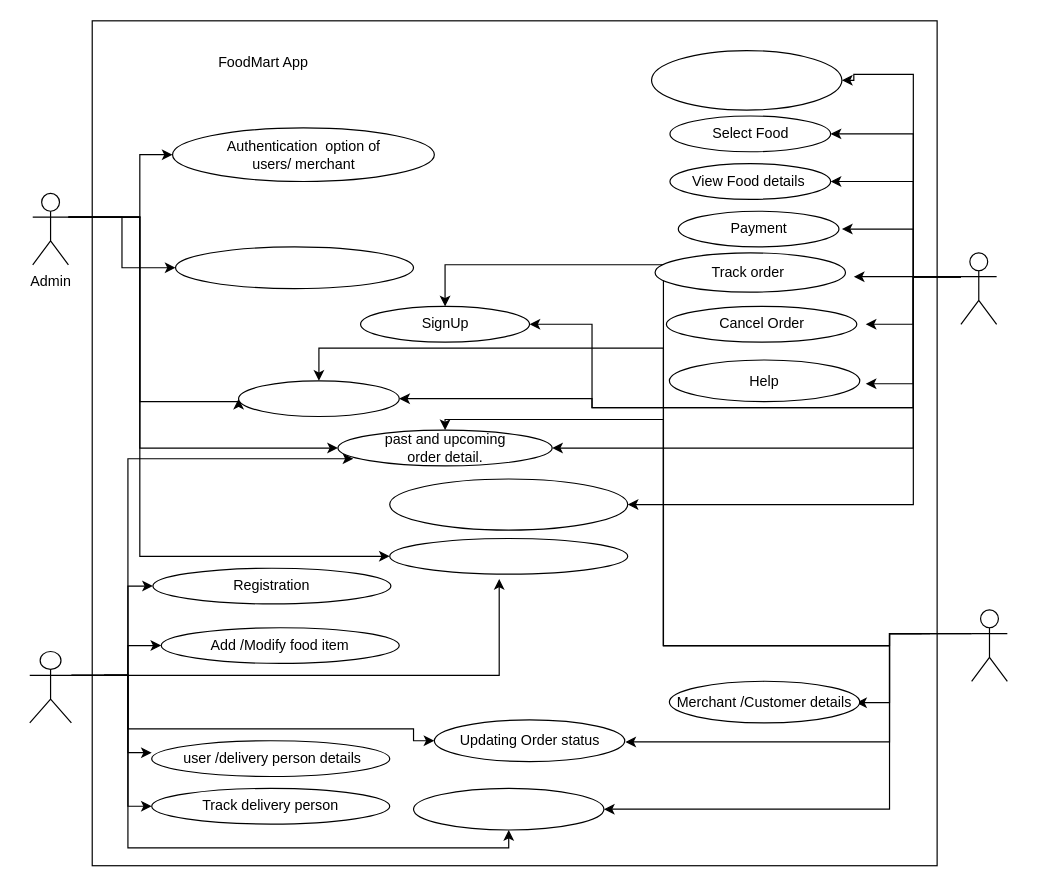
The diagram is 1060 pixels wide and 887 high, and some of its shapes have lost their labels. Each missing label, with the centre of its shape:
"Accept/Reject Order" belongs at point 508,808.
"Add/Modify data of user,merchant,delivery person" belongs at point 294,267.
"Delivery Person" belongs at point 988,645.
"LogIn" belongs at point 318,398.
"Merchant" belongs at point 50,686.
"Provide offers" belongs at point 508,555.
"Ratings to Delivery person/restaurant" belongs at point 508,504.
"Search food item / restaurant" belongs at point 746,79.
"User" belongs at point 978,288.
